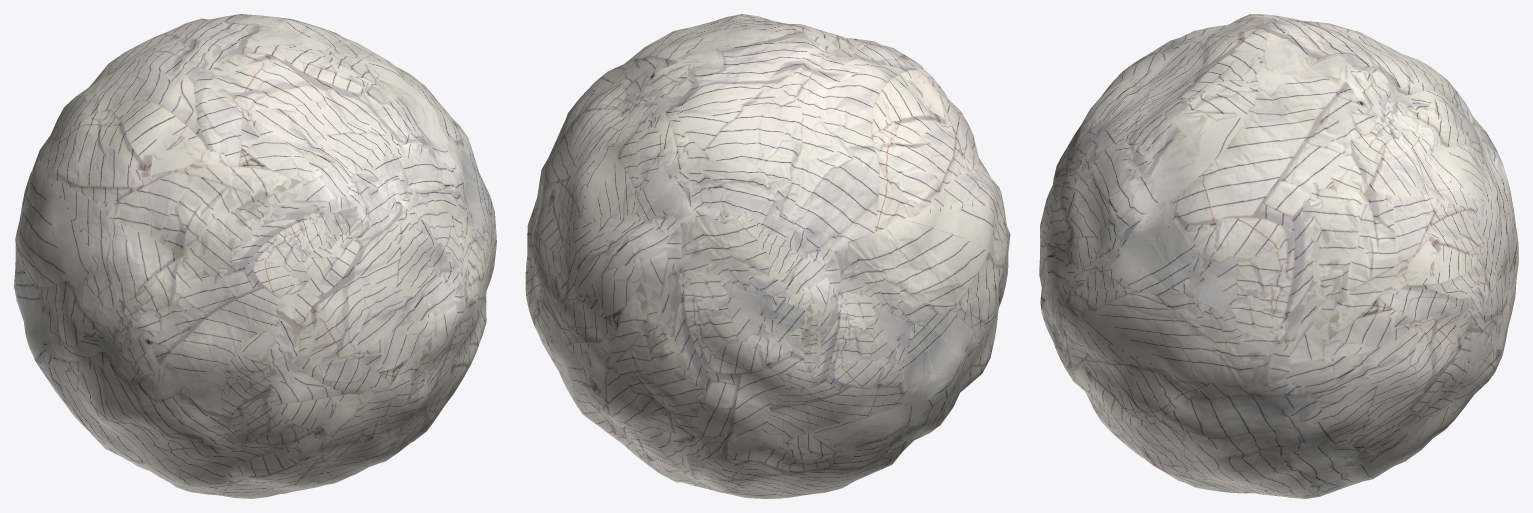
The model's file is jjAsteroidG_obj.fbx.
3 renders of one model, left to right at view 1: azimuth 30°, elevation 25°; view 2: azimuth 150°, elevation 25°; view 3: azimuth 270°, elevation 25°, orthographic.
Visible parts, largest first — view 1: AsteroidG_mesh; view 2: AsteroidG_mesh; view 3: AsteroidG_mesh.
Part boxes in pixels (left/top/right/bottom): AsteroidG_mesh: left=14, top=14, right=496, bottom=498; AsteroidG_mesh: left=525, top=14, right=1010, bottom=498; AsteroidG_mesh: left=1039, top=14, right=1518, bottom=498.
Bounding box in the file's own units: 35.41 × 35.33 × 35.14.
